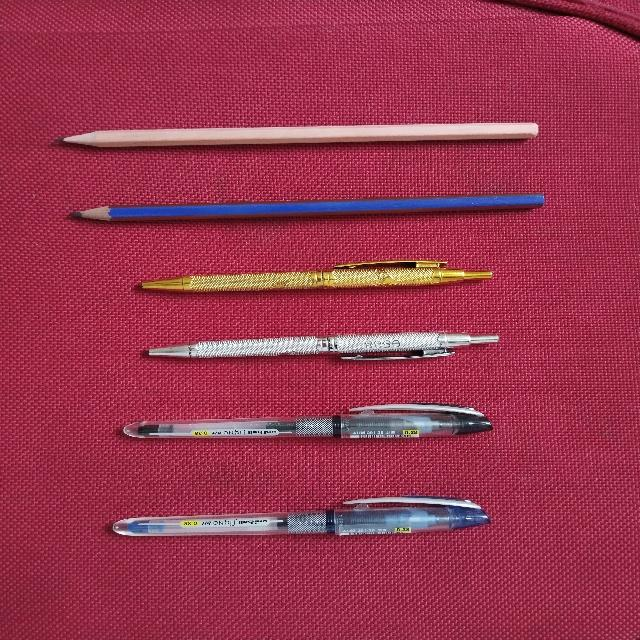pen: (113, 496, 489, 535), (124, 403, 491, 438)
pencil: (70, 193, 543, 220), (61, 123, 537, 147)
signature pen: (142, 260, 491, 291), (148, 332, 498, 359)
